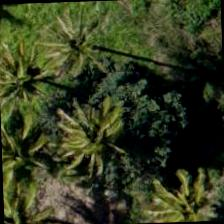Kelapa_Sawit: (53, 105, 146, 198), (26, 0, 119, 86), (0, 34, 61, 127), (143, 162, 223, 224), (2, 180, 63, 223)
